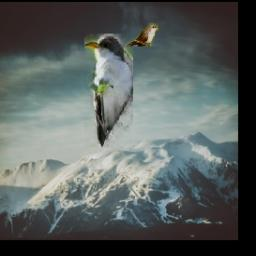Cuckoo: (84, 34, 133, 147), (127, 24, 159, 47)
